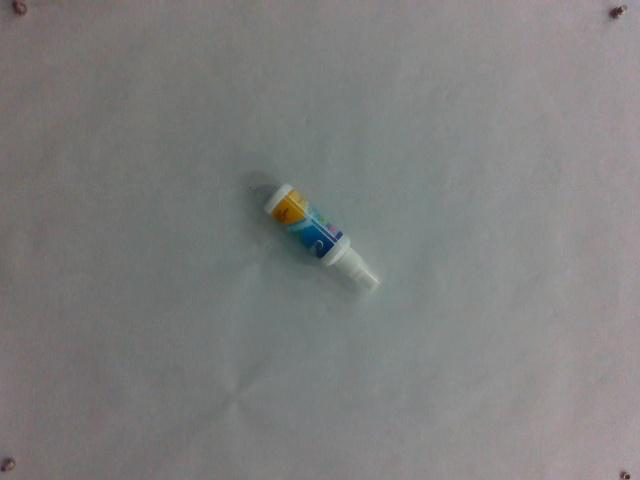detergent: (264, 178, 379, 293)
